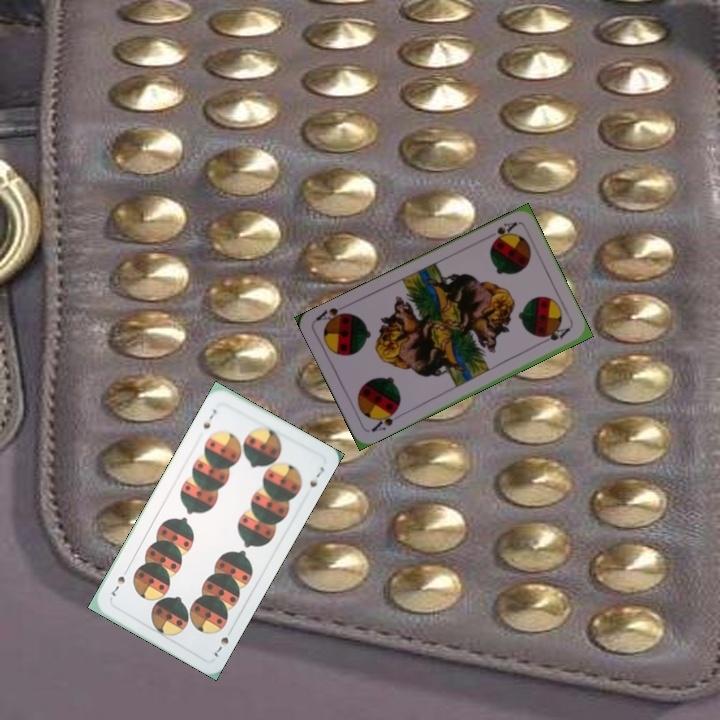S7: (210, 632, 231, 660), (199, 405, 219, 432)
SA: (482, 218, 520, 246), (367, 405, 401, 435)
